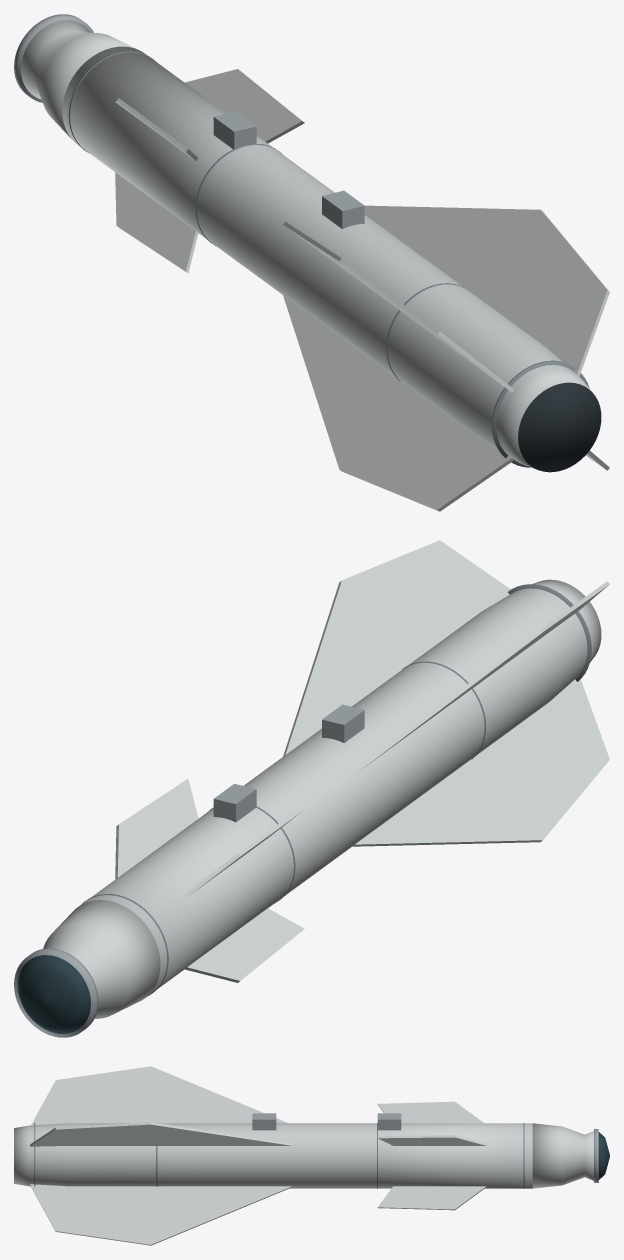
The picture shows the model from 3 angles, top to bottom: view 1: azimuth 30°, elevation 25°; view 2: azimuth 150°, elevation 25°; view 3: azimuth 270°, elevation 25°; orthographic projection. The views are drawn at different scales.
Parts seen in each view (by area): view 1: static.Exterior light grey, static.Exterior dark cap, static.Exterior dull metal, static.Restrained joints; view 2: static.Exterior light grey, static.Opaque dark optical window, static.Exterior dull metal, static.Restrained joints; view 3: static.Exterior light grey, static.Exterior dull metal, static.Opaque dark optical window, static.Restrained joints.
Part boxes in pixels (x1=…): static.Exterior light grey: x1=21, y1=20, x2=609, y2=511; static.Exterior dark cap: x1=518, y1=382, x2=601, y2=472; static.Exterior dull metal: x1=14, y1=14, x2=364, y2=229; static.Restrained joints: x1=68, y1=51, x2=589, y2=467; static.Exterior light grey: x1=43, y1=540, x2=609, y2=1018; static.Opaque dark optical window: x1=17, y1=955, x2=90, y2=1033; static.Exterior dull metal: x1=14, y1=704, x2=364, y2=1037; static.Restrained joints: x1=82, y1=584, x2=591, y2=995; static.Exterior light grey: x1=14, y1=1066, x2=593, y2=1245; static.Exterior dull metal: x1=252, y1=1113, x2=598, y2=1182; static.Opaque dark optical window: x1=598, y1=1132, x2=609, y2=1179; static.Restrained joints: x1=34, y1=1123, x2=524, y2=1188.
Bounding box in the file's own units: 0.9136 × 0.9136 × 4.
